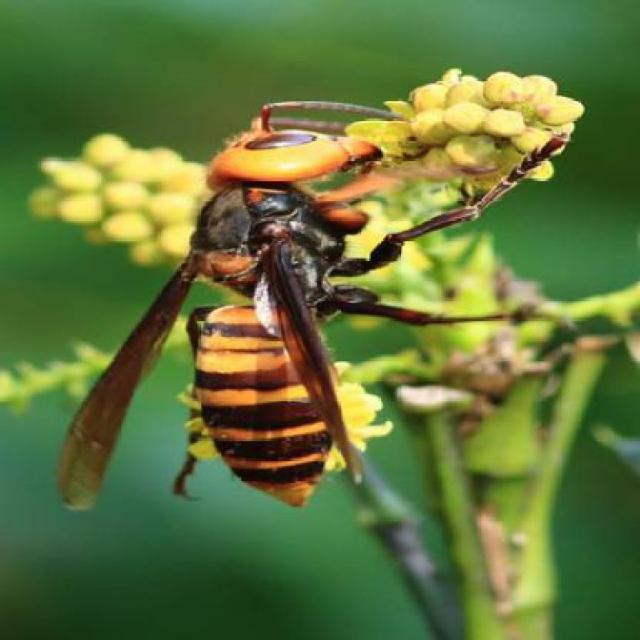Wasp: (39, 80, 569, 512)
